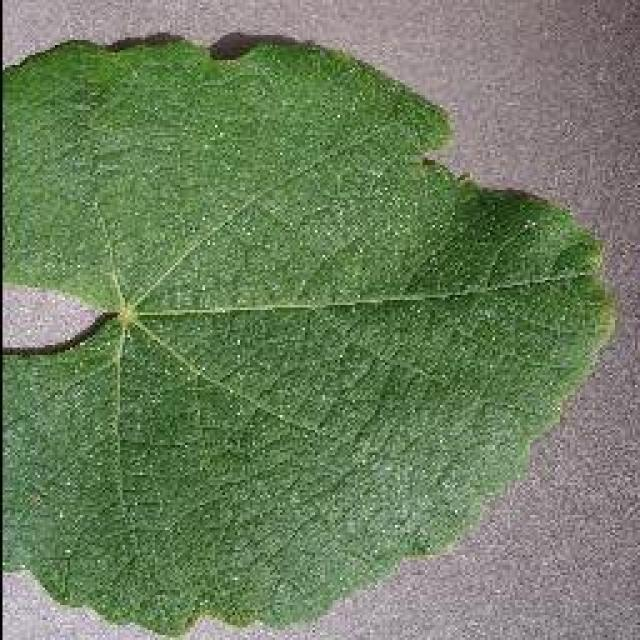Grape___healthy: (2, 38, 608, 632)
